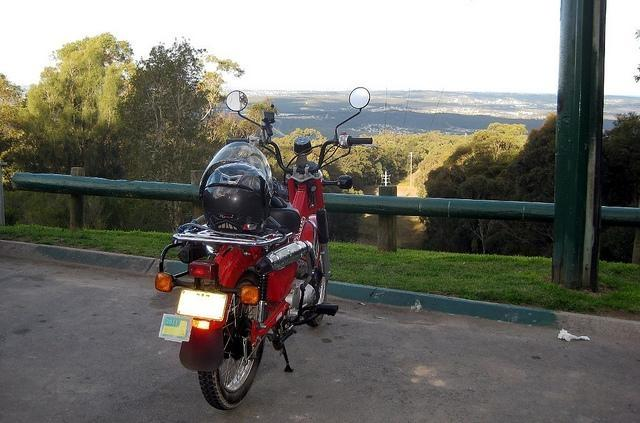motorcycle: (154, 87, 378, 408)
